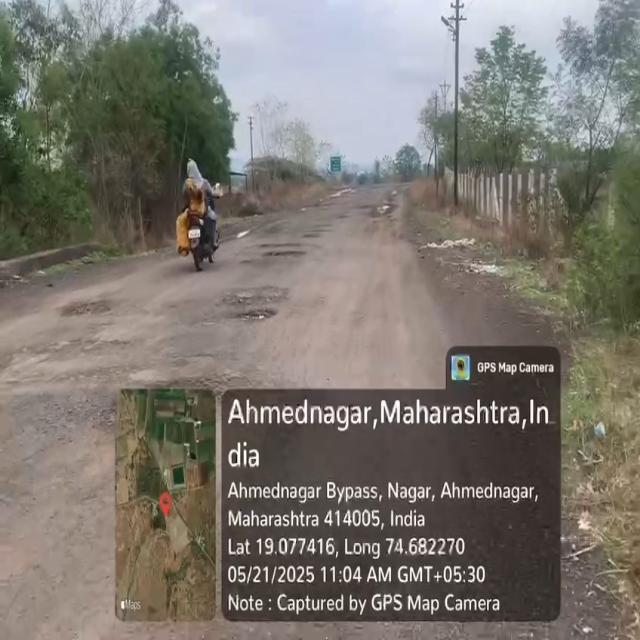pothole: (230, 281, 294, 304), (257, 239, 308, 260), (68, 298, 112, 320), (234, 307, 283, 326), (223, 223, 260, 240), (374, 199, 400, 221)
